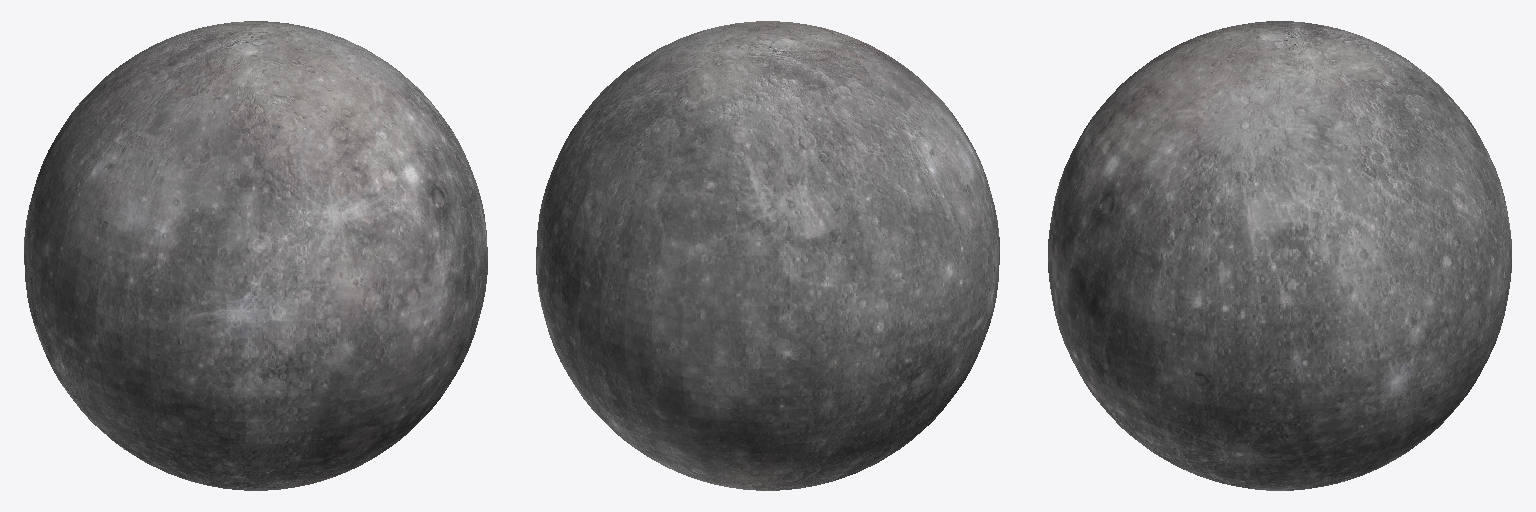
The picture shows the model from 3 angles: view 1: azimuth 30°, elevation 25°; view 2: azimuth 150°, elevation 25°; view 3: azimuth 270°, elevation 25°; orthographic projection.
Parts seen in each view (by area): view 1: Mercury; view 2: Mercury; view 3: Mercury.
Boxes of the visible parts, <box> form: Mercury: <box>24,21,487,490</box>; Mercury: <box>536,21,999,490</box>; Mercury: <box>1048,21,1511,490</box>.
Bounding box in the file's own units: 4.92 × 4.97 × 4.92.
1 materials, 1 textured.